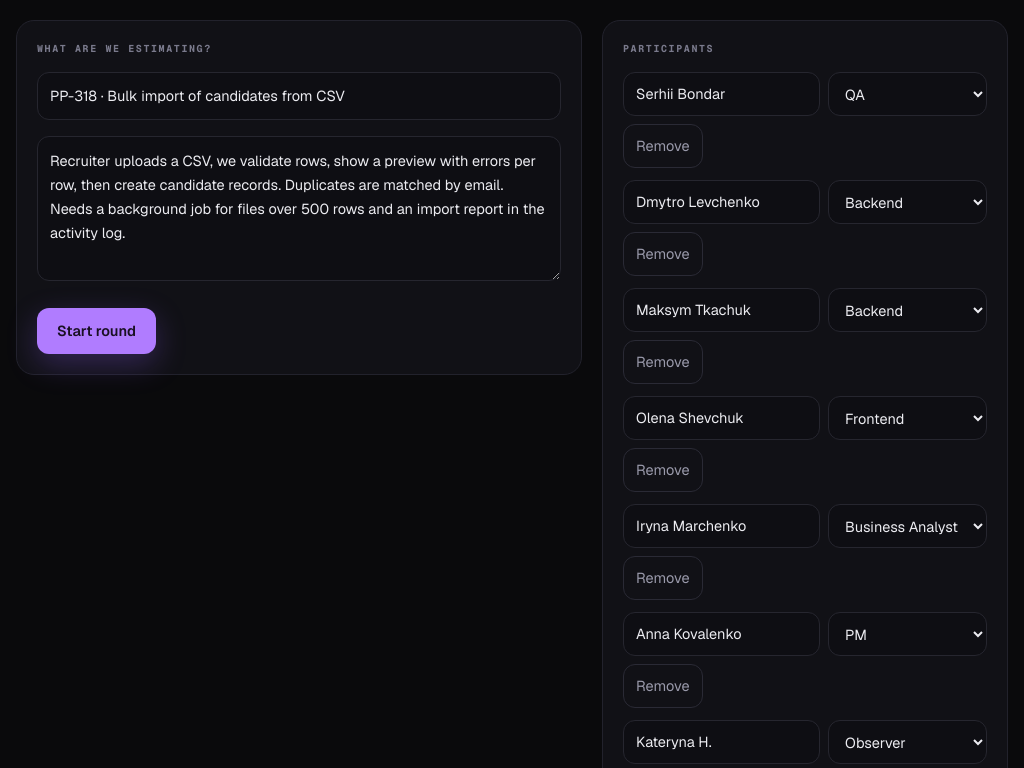
it: starting hands the configured task to the round › carries an empty description into the round as no description
This screenshot has width=1024, height=768.
Replace the text in the field named "Task title" with "Estimate the CSV import" at (299, 96), box [37,72,561,120]
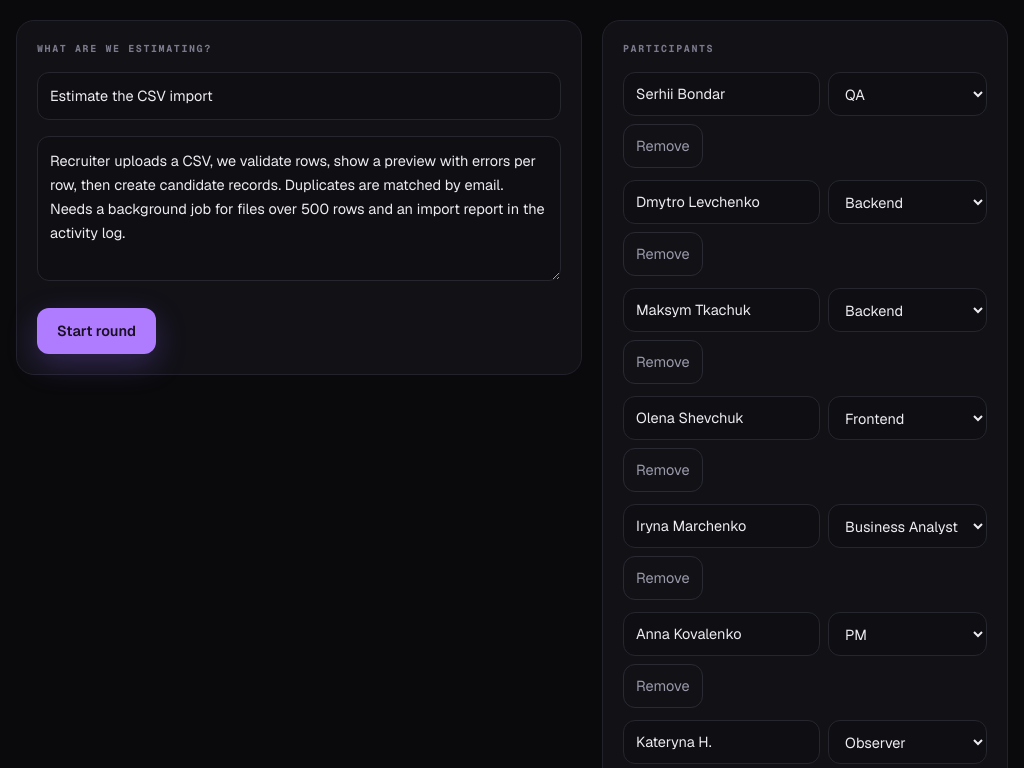
Clear the text box named "Task description" at (299, 209), box [37,136,561,281]
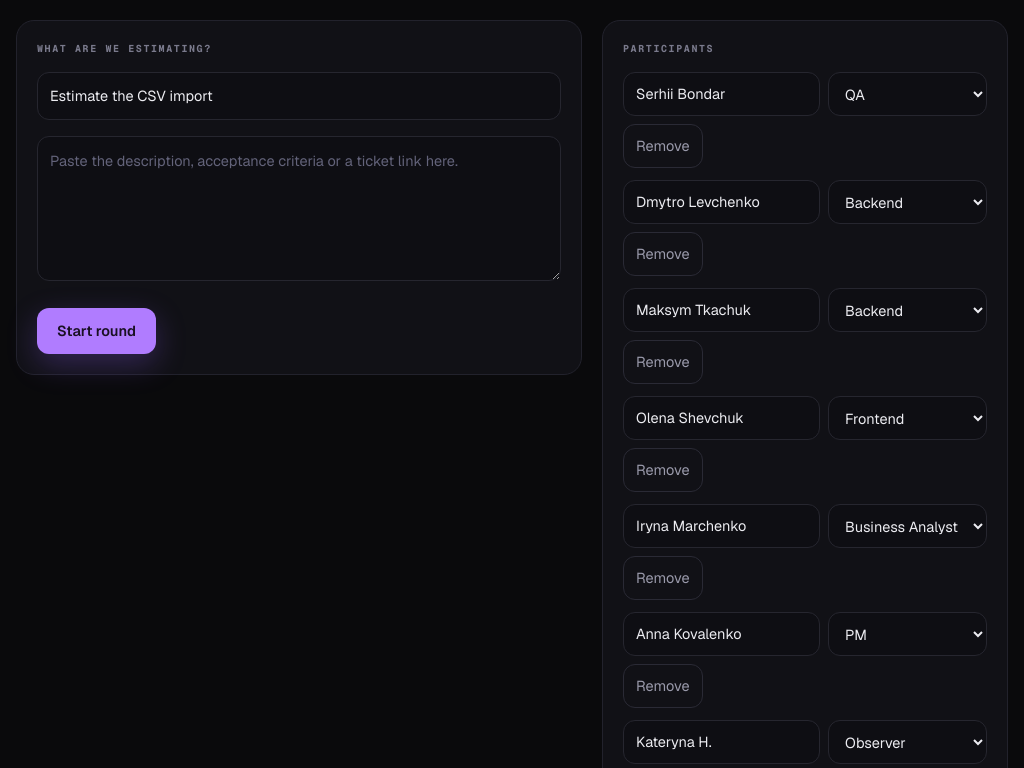
Click the button "Start round" at (96, 331), box [37,308,156,354]
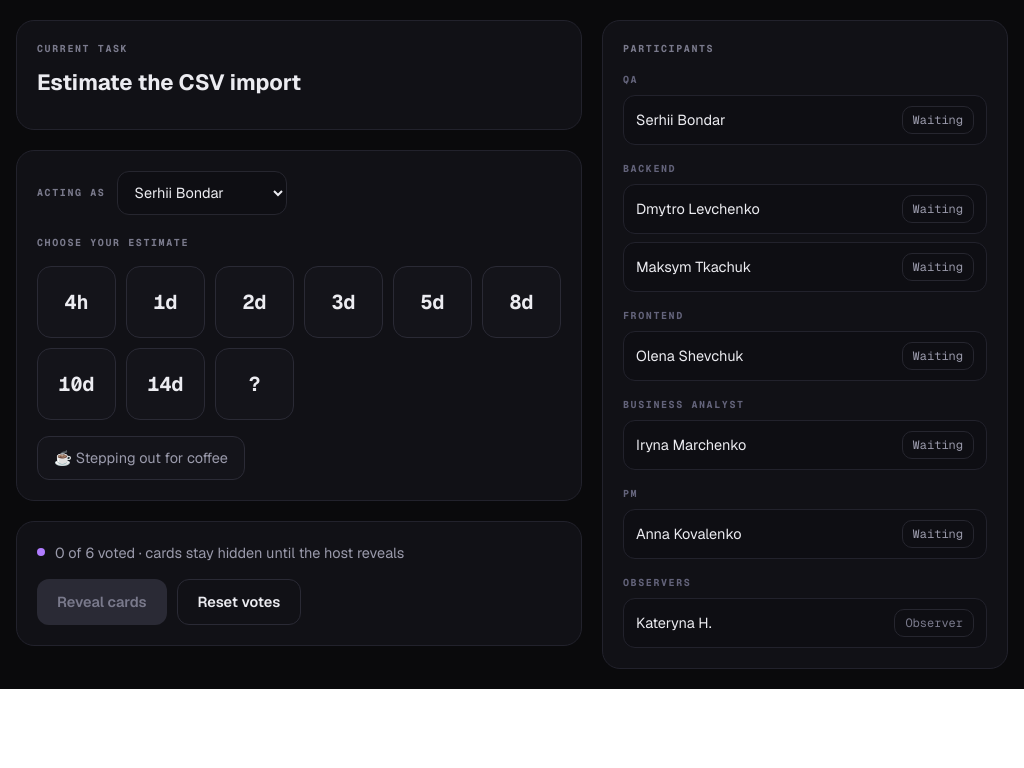
Expected: the text "Recruiter uploads a CSV" is not shown
Expected: the heading "Estimate the CSV import" is shown, [37,68,301,96]
